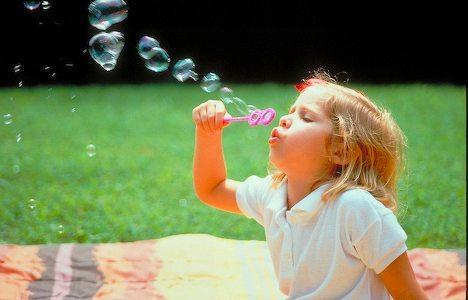person: (189, 75, 433, 300)
